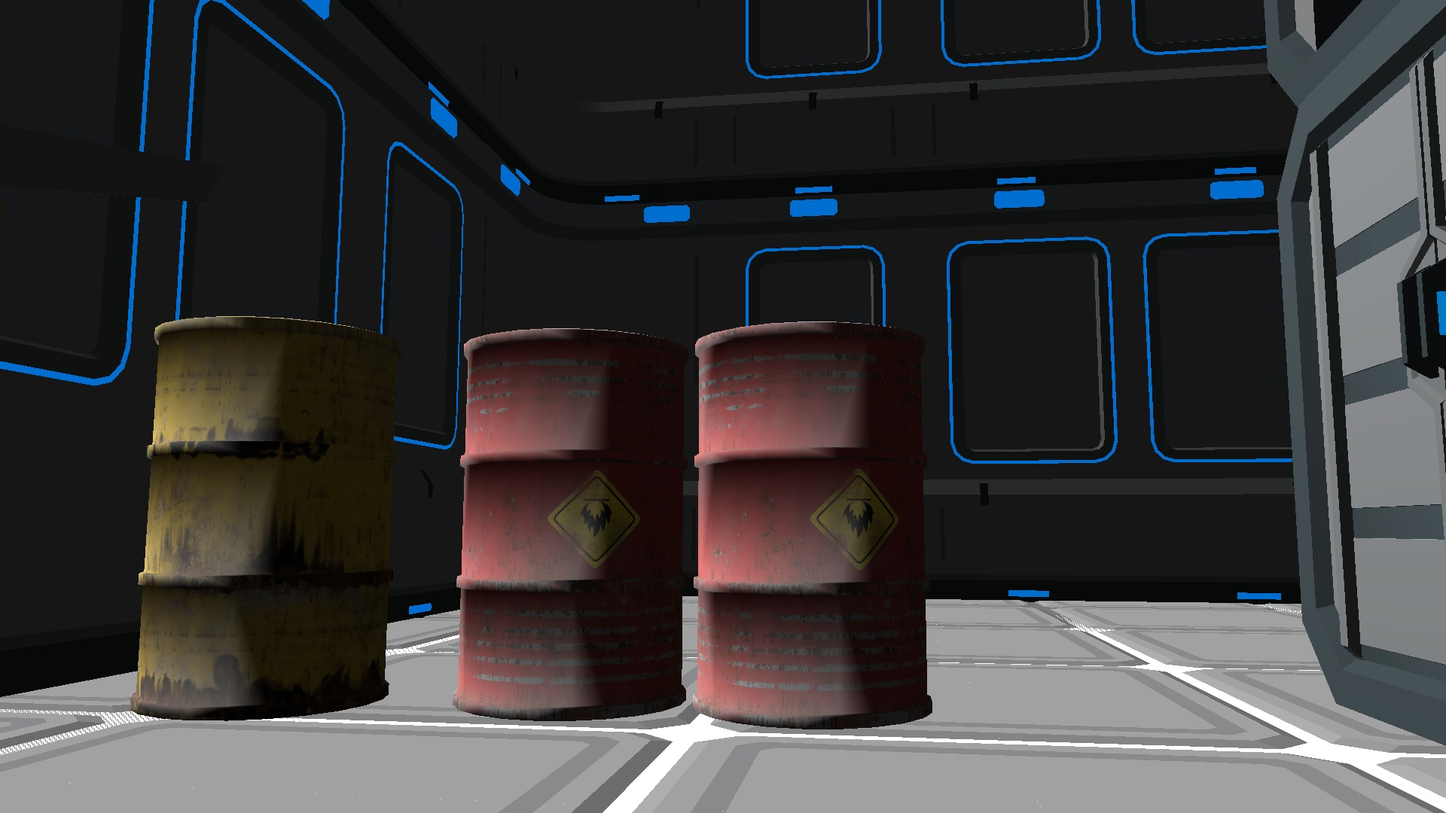toxic barrel: (129, 316, 398, 720), (693, 321, 933, 729), (452, 327, 687, 720)
